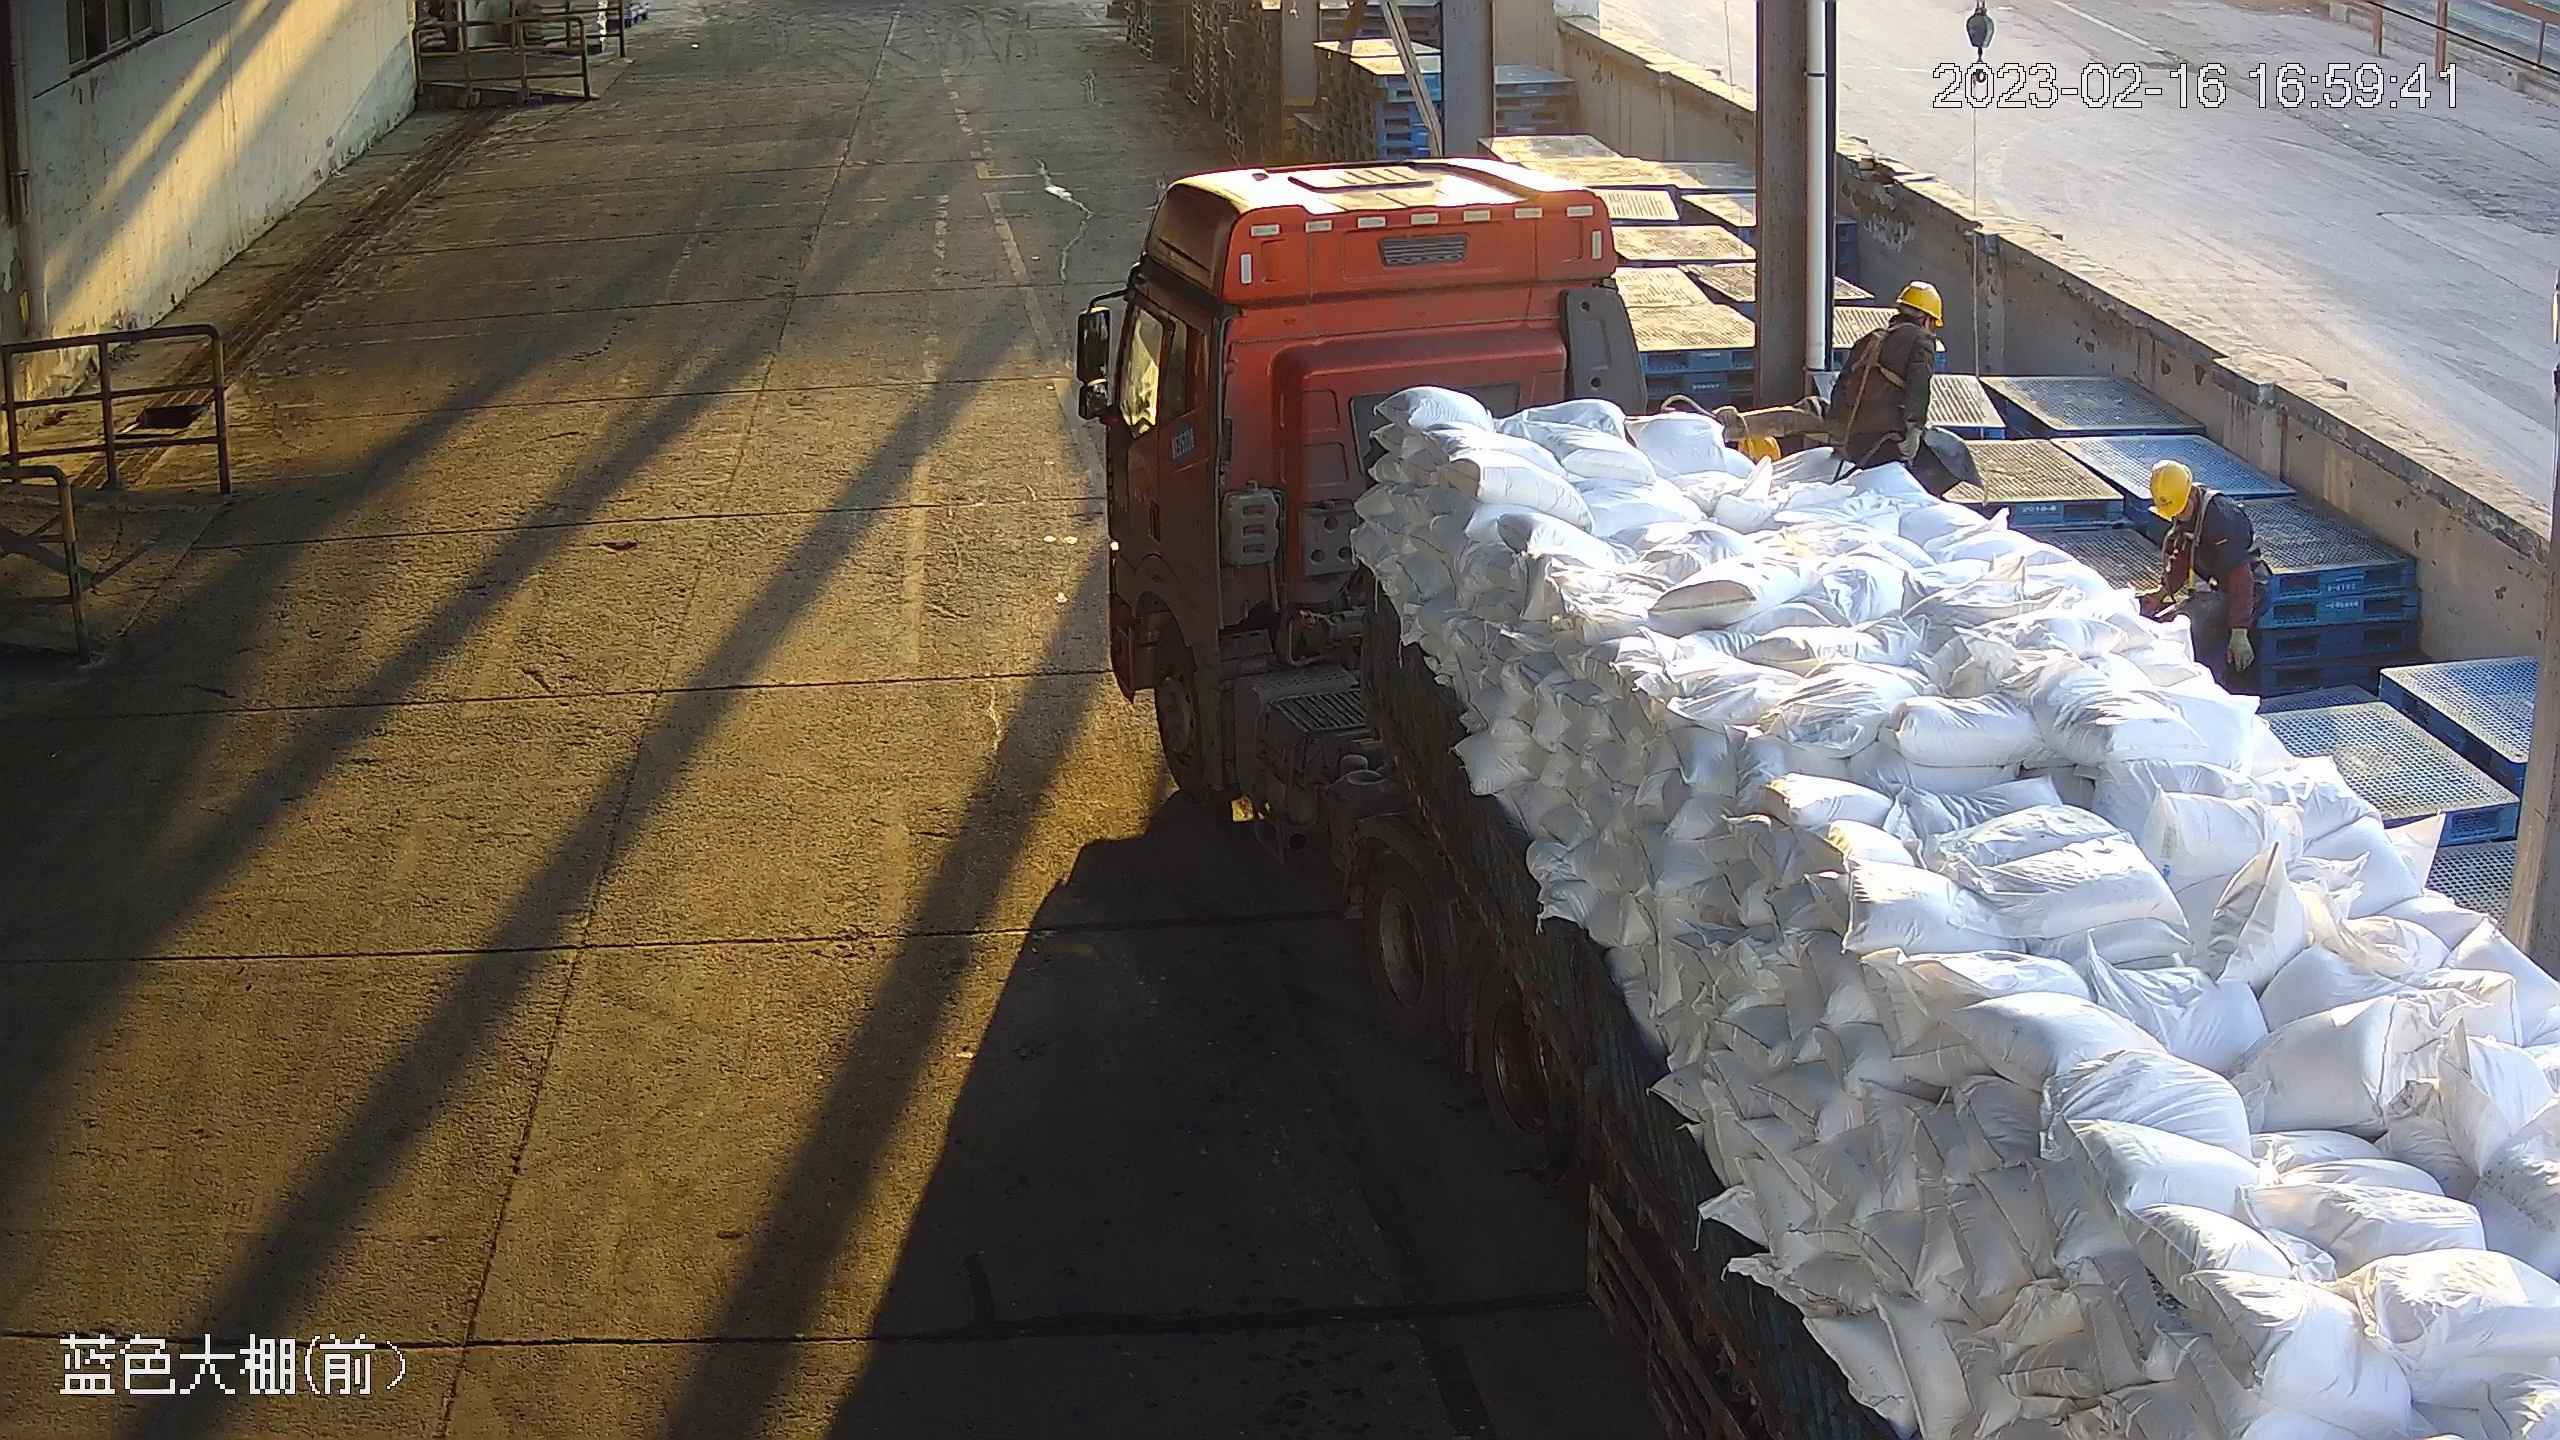belt: (2170, 501, 2227, 569), (1846, 330, 1911, 379)
head: (2141, 455, 2239, 544), (1874, 276, 1951, 360)
helmet: (2141, 457, 2192, 515), (1900, 276, 1948, 325)
people: (2128, 460, 2270, 716), (1837, 272, 1981, 515)
truck: (1063, 155, 2560, 1440)
